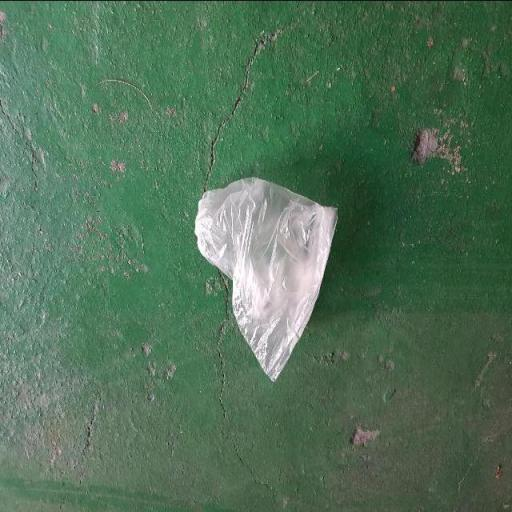plastic-bag: (193, 174, 340, 380)
